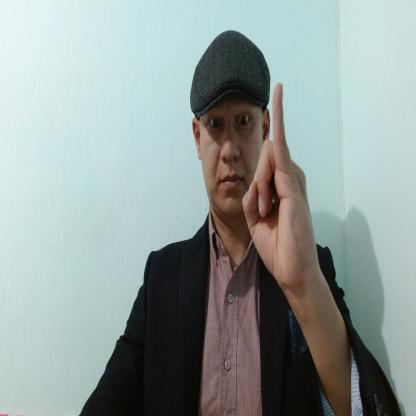I: (242, 80, 314, 289)
